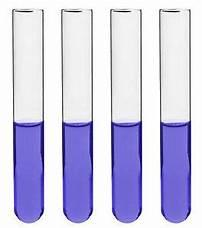Test tube: (107, 9, 147, 223), (157, 13, 194, 218), (60, 10, 95, 219), (12, 15, 45, 223)
